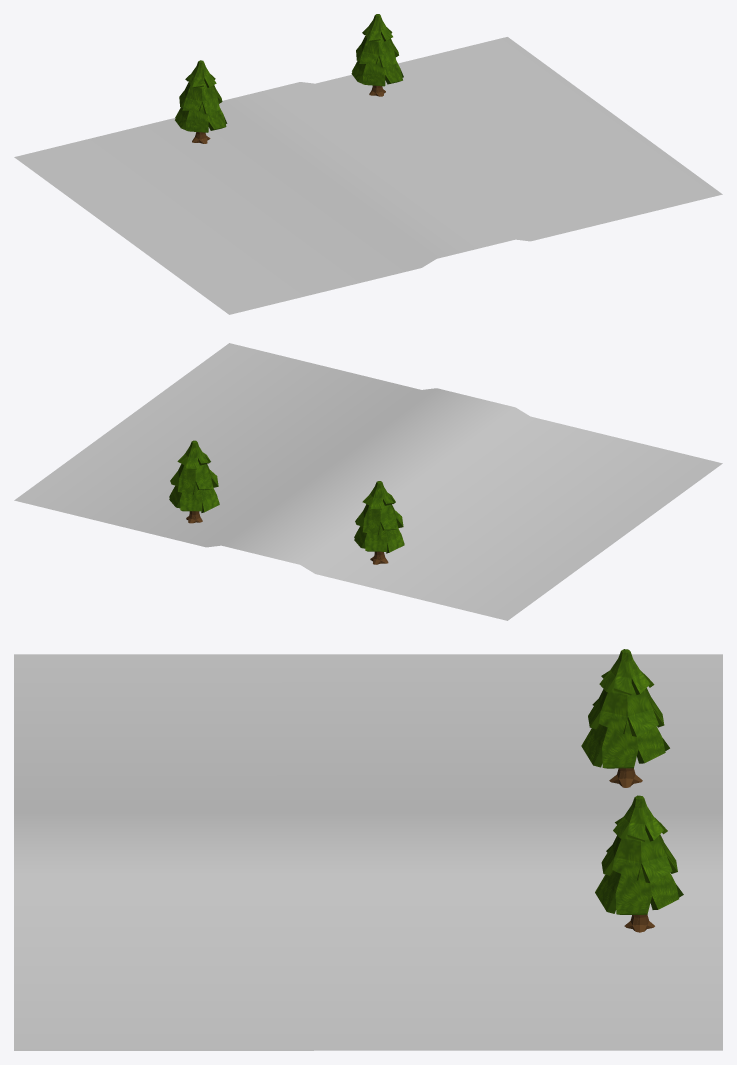
3 views of the same model, one above another, from view 1: azimuth 30°, elevation 25°; view 2: azimuth 150°, elevation 25°; view 3: azimuth 270°, elevation 25° (orthographic). The views are drawn at different scales.
Visible parts, largest first — view 1: minetrackpiece102, minetrackpiece103, minetrackpiece103__1_; view 2: minetrackpiece102, minetrackpiece103, minetrackpiece103__1_; view 3: minetrackpiece102, minetrackpiece103, minetrackpiece103__1_.
Part boxes in pixels (<box>): minetrackpiece102: <box>14,37,722,314</box>; minetrackpiece103: <box>175,60,227,143</box>; minetrackpiece103__1_: <box>351,14,403,96</box>; minetrackpiece102: <box>14,343,722,620</box>; minetrackpiece103: <box>354,481,404,564</box>; minetrackpiece103__1_: <box>169,440,219,523</box>; minetrackpiece102: <box>14,654,722,1050</box>; minetrackpiece103: <box>581,649,669,787</box>; minetrackpiece103__1_: <box>595,795,683,932</box>.
Size of the model in its own units: 13112 by 2108 by 9908.
